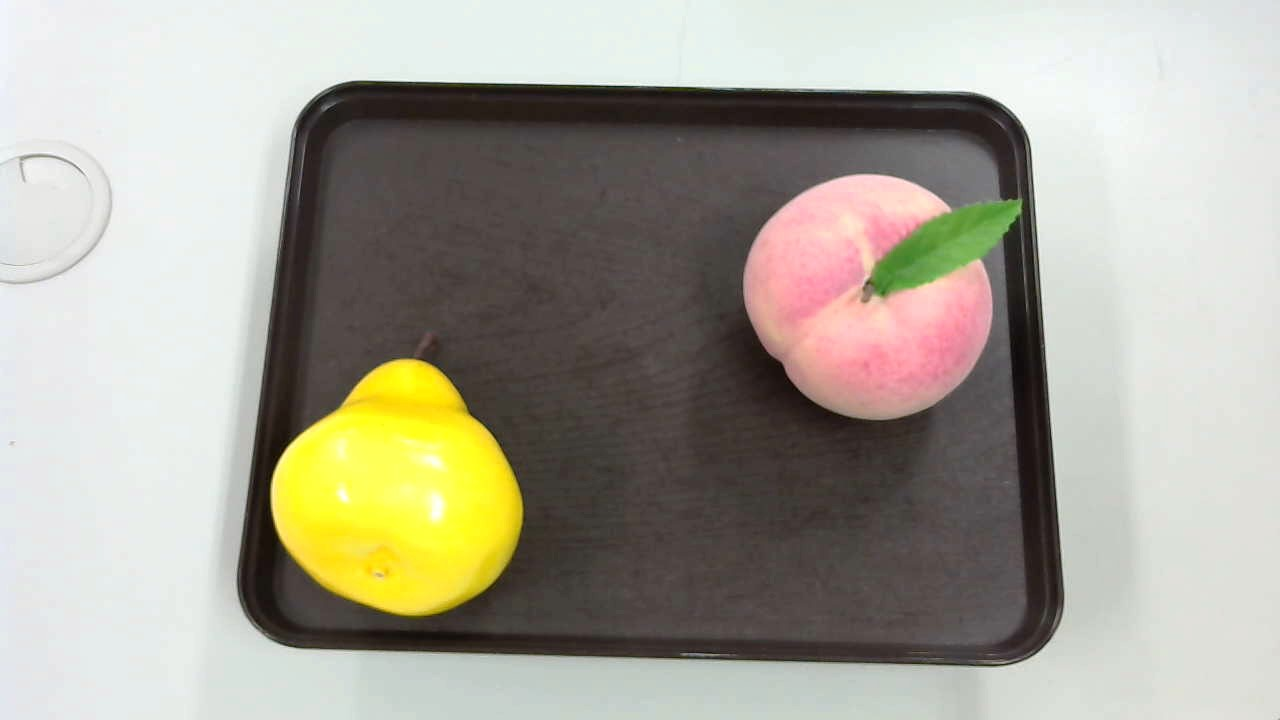peach: (731, 172, 1026, 435)
yellow pear: (266, 327, 524, 614)
